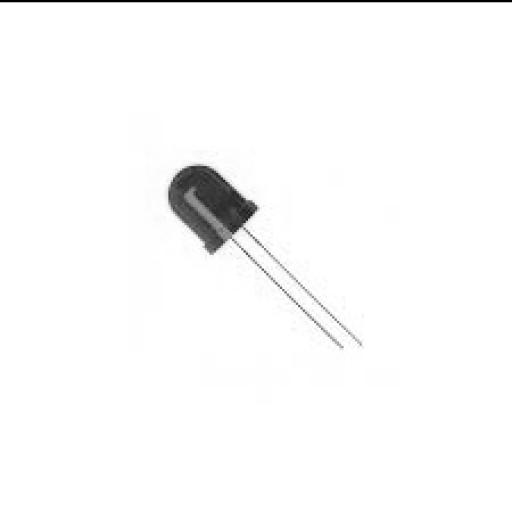LED: (122, 120, 429, 411)
